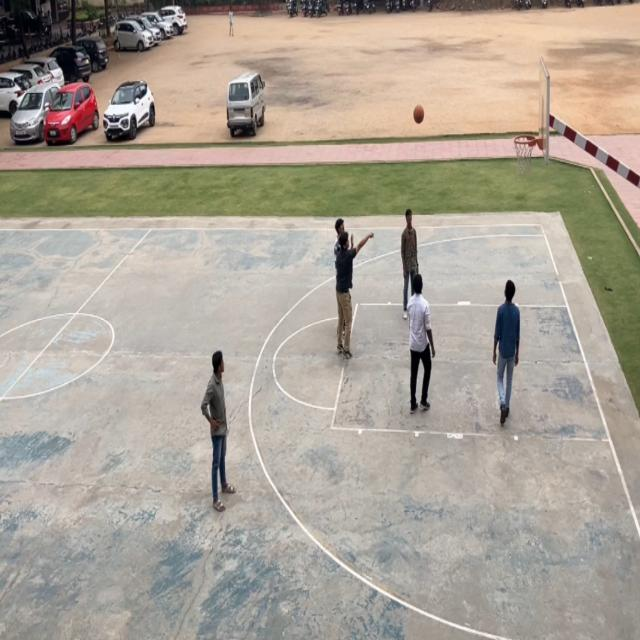basketball: (411, 104, 427, 126)
hoop: (512, 132, 536, 177)
